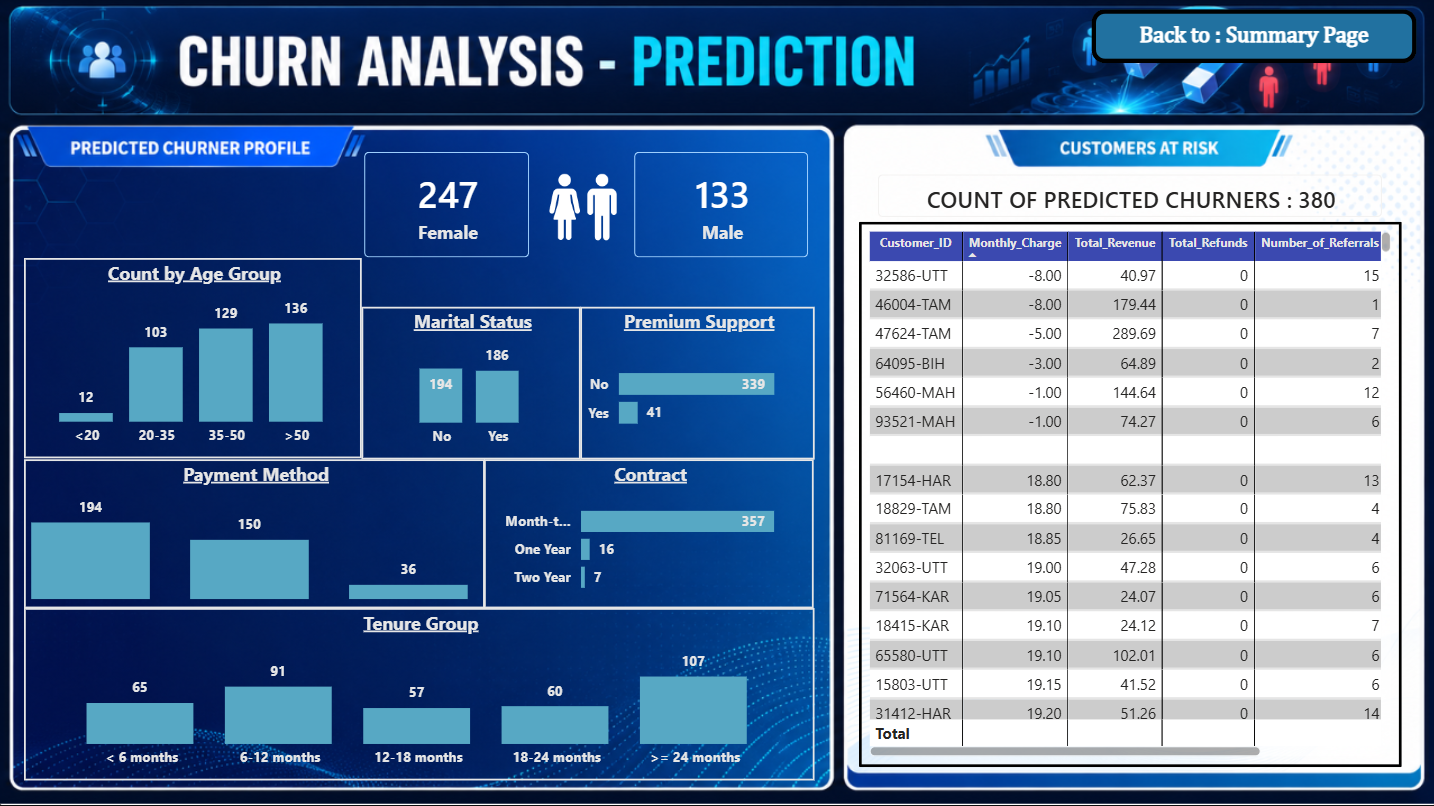

The dashboard page shown, as its layout file describes it:
{"tool":"powerbi","page":{"name":"Churn Prediction","canvas":[1280,720],"ordinal":2},"visuals":[{"type":"image","box":[460.4,148.2,118,75.5],"z":0},{"type":"tableEx","fields":{"Values":["Predictions.Customer_ID","Predictions.Monthly_Charge","Predictions.Total_Revenue","Predictions.Total_Refunds","Predictions.Number_of_Referrals","tbl_Measure.Count Predicted Churner"]},"box":[765.7,199,483,485.8],"z":1000},{"type":"cardVisual","fields":{"Data":["tbl_Measure.Title Predicted Churner"]},"box":[765.7,140,483,72.7],"z":2000},{"type":"cardVisual","fields":{"Data":["tbl_Measure.Count Predicted Churner"]},"box":[308.7,120.8,181.1,129],"z":3000},{"type":"cardVisual","fields":{"Data":["tbl_Measure.Count Predicted Churner"]},"box":[548.9,120.8,189.4,129],"z":4000},{"type":"clusteredColumnChart","title":"Count by Age Group","fields":{"Category":["mapping_AgeGrp.Age Group"],"Y":["CountNonNull(Predictions.Customer_ID)"]},"box":[22,231.9,300.5,178.4],"z":5000},{"type":"clusteredColumnChart","title":"Marital Status","fields":{"Category":["Predictions.Married"],"Y":["CountNonNull(Predictions.Customer_ID)"]},"box":[322.5,274.4,194.9,135.8],"z":6000},{"type":"clusteredColumnChart","title":"Tenure Group","fields":{"Y":["CountNonNull(Predictions.Customer_ID)"],"Category":["mapping_TenureGrp.Tenure Grp"]},"box":[22,543.4,703.9,153.7],"z":7000},{"type":"clusteredColumnChart","title":"Payment Method","fields":{"Y":["CountNonNull(Predictions.Customer_ID)"],"Category":["Predictions.Payment_Method"]},"box":[22,410.3,410.3,133.1],"z":8000},{"type":"clusteredBarChart","title":"Contract","fields":{"Category":["Predictions.Contract"],"Y":["CountNonNull(Predictions.Customer_ID)"]},"box":[432.2,410.3,293.7,133.1],"z":9000},{"type":"clusteredBarChart","title":"Premium Support","fields":{"Y":["CountNonNull(Predictions.Customer_ID)"],"Category":["Predictions.Premium_Support"]},"box":[517.3,274.4,208.6,135.8],"z":10000},{"type":"shape","box":[972.9,9.6,289.5,48],"z":11000}]}

Visuals, with their boxes in screenshot pixels (x1, y1, x2, y2), scaled from the page's 1280x720 canvas onto the 1434x806 screenshot:
image: (516, 166, 648, 250)
tableEx - Predictions.Customer_ID x Predictions.Monthly_Charge: (858, 223, 1399, 767)
cardVisual - tbl_Measure.Title Predicted Churner: (858, 157, 1399, 238)
cardVisual - tbl_Measure.Count Predicted Churner: (346, 135, 549, 280)
cardVisual - tbl_Measure.Count Predicted Churner: (615, 135, 827, 280)
"Count by Age Group" clusteredColumnChart: (25, 260, 361, 459)
"Marital Status" clusteredColumnChart: (361, 307, 580, 459)
"Tenure Group" clusteredColumnChart: (25, 608, 813, 780)
"Payment Method" clusteredColumnChart: (25, 459, 484, 608)
"Contract" clusteredBarChart: (484, 459, 813, 608)
"Premium Support" clusteredBarChart: (580, 307, 813, 459)
shape: (1090, 11, 1414, 64)
